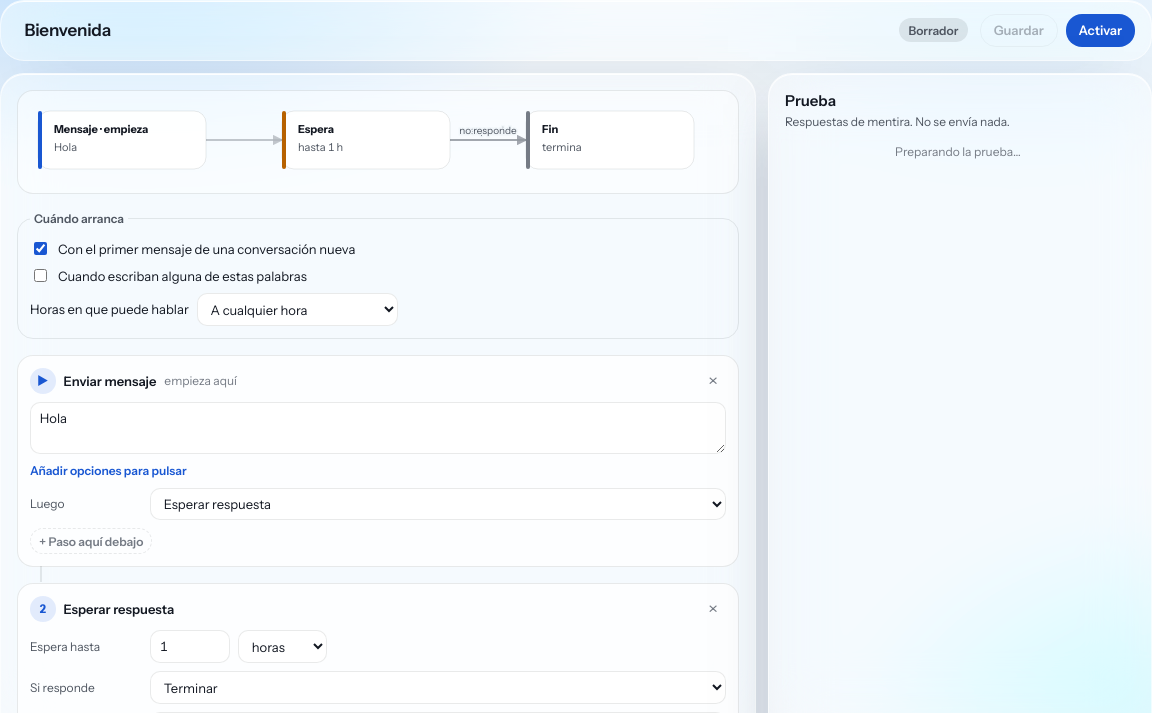
EditorDeFlujo › borrar un paso re-engancha el flujo en vez de partirlo
This screenshot has width=1152, height=713.
Expected: the text box showing "Hola" is shown, left=30, top=402, right=726, bottom=454
Click the button named "Quitar el paso espera". click: (713, 609)
box: left=700, top=596, right=726, bottom=622
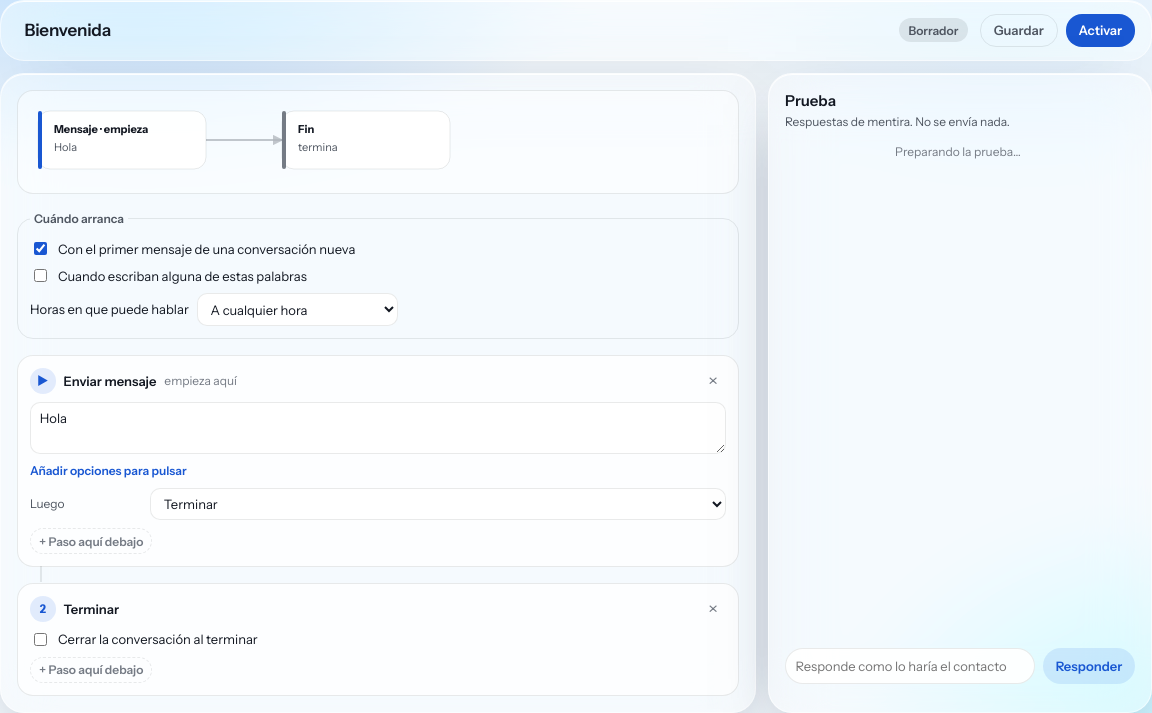
Now the dropdown labelled "Luego" shows "Terminar", box left=150, top=488, right=726, bottom=520
